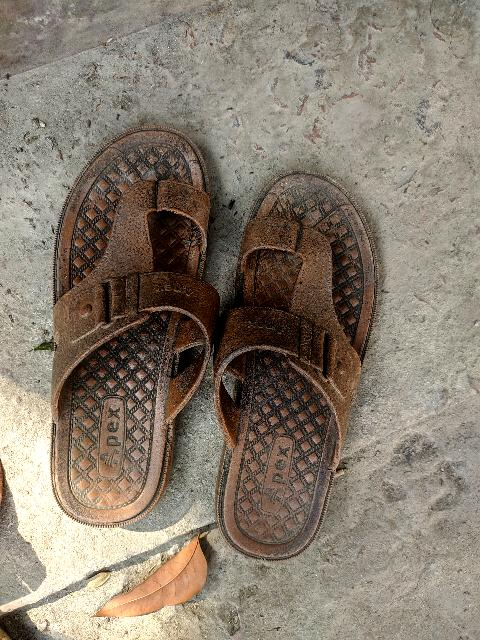sandal: (160, 162, 404, 580), (8, 131, 220, 534)
